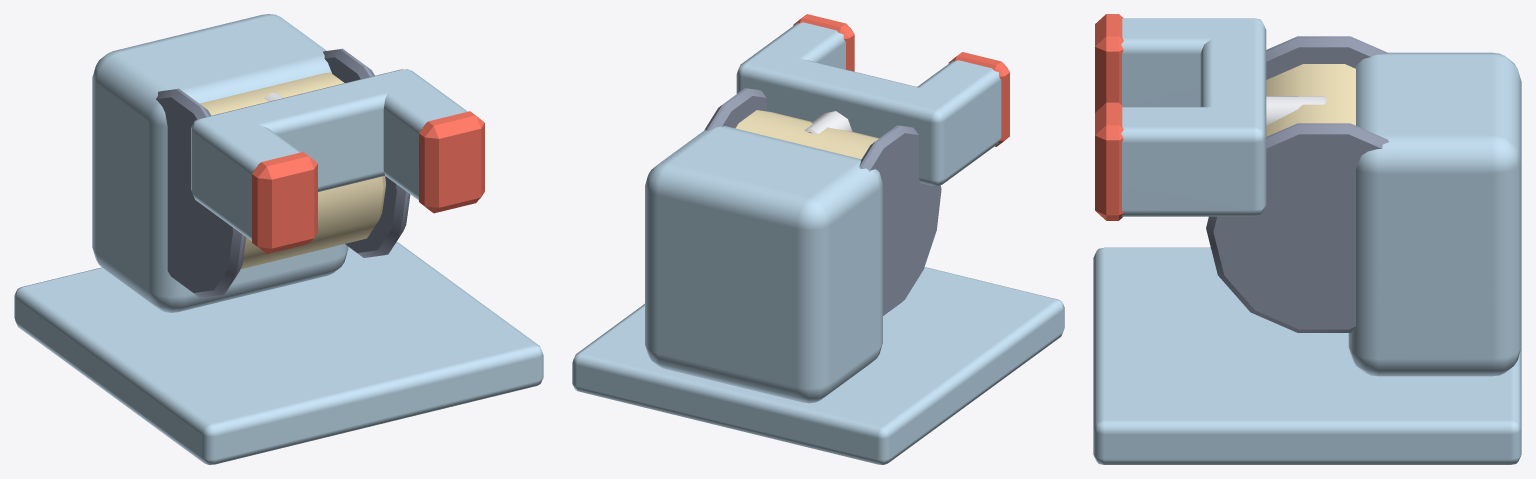
The model's file is R4X_MagneticGrapple.glb.
3 views of the same model, side by side, from view 1: azimuth 30°, elevation 25°; view 2: azimuth 150°, elevation 25°; view 3: azimuth 270°, elevation 25° (orthographic). The views are drawn at different scales.
Visible parts, largest first — view 1: R4X_MagneticGrapple_Body; view 2: R4X_MagneticGrapple_Body; view 3: R4X_MagneticGrapple_Body.
Part boxes in pixels (box(x1,y1,x2,y2)): R4X_MagneticGrapple_Body: box(14, 14, 543, 464); R4X_MagneticGrapple_Body: box(572, 14, 1064, 464); R4X_MagneticGrapple_Body: box(1093, 14, 1521, 464).
Size of the model in its own units: 0.52 by 0.414 by 0.52.
